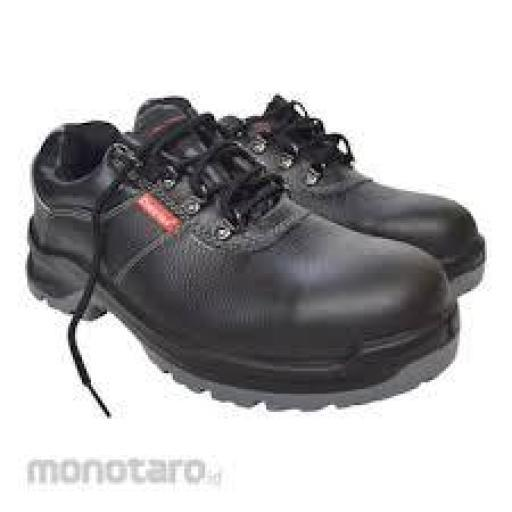safety_boots: (25, 112, 481, 450)
